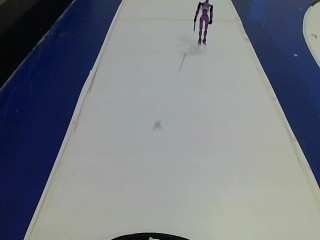pedestrian: (190, 0, 222, 51)
